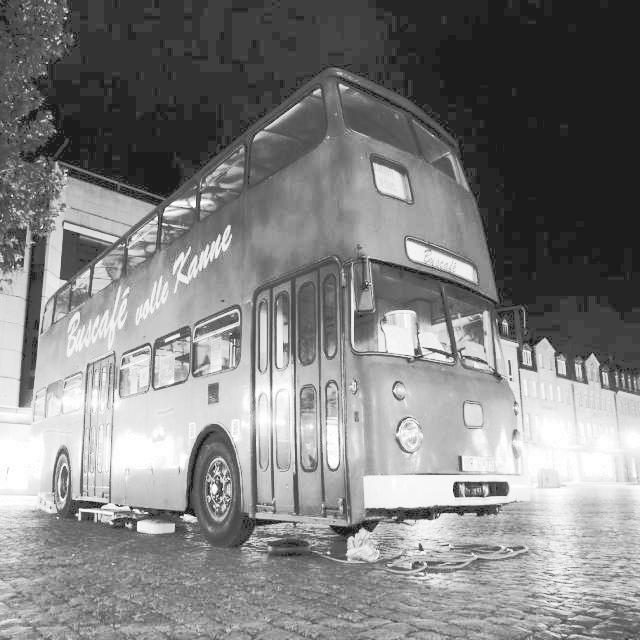Bus: (28, 67, 523, 552)
